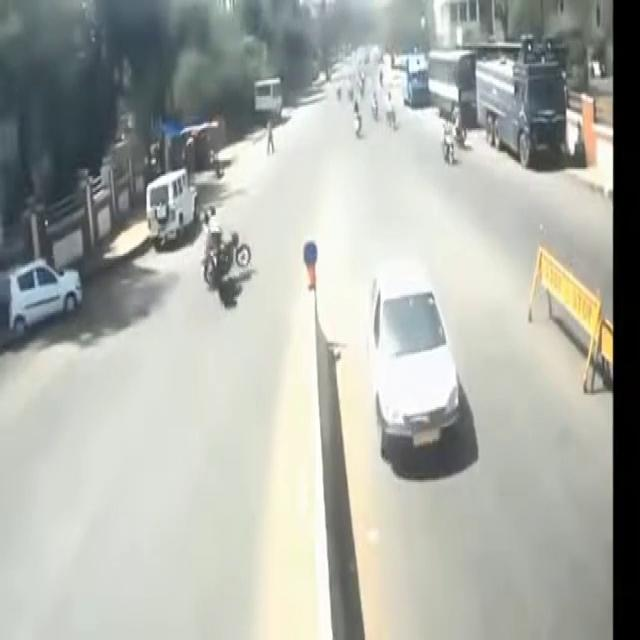accident: (186, 189, 258, 309)
